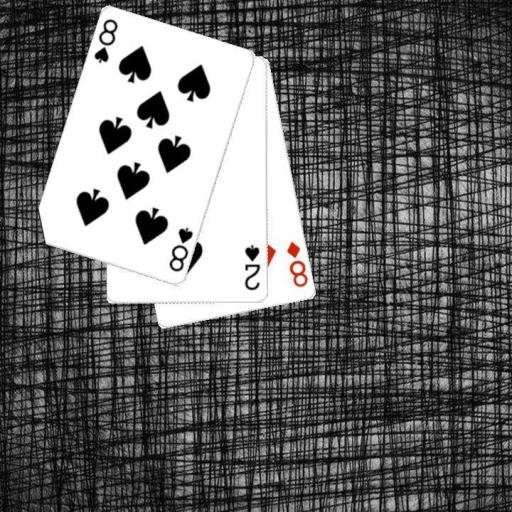card-corner: (166, 224, 195, 274), (91, 16, 119, 66), (284, 238, 310, 290), (242, 242, 262, 292)
